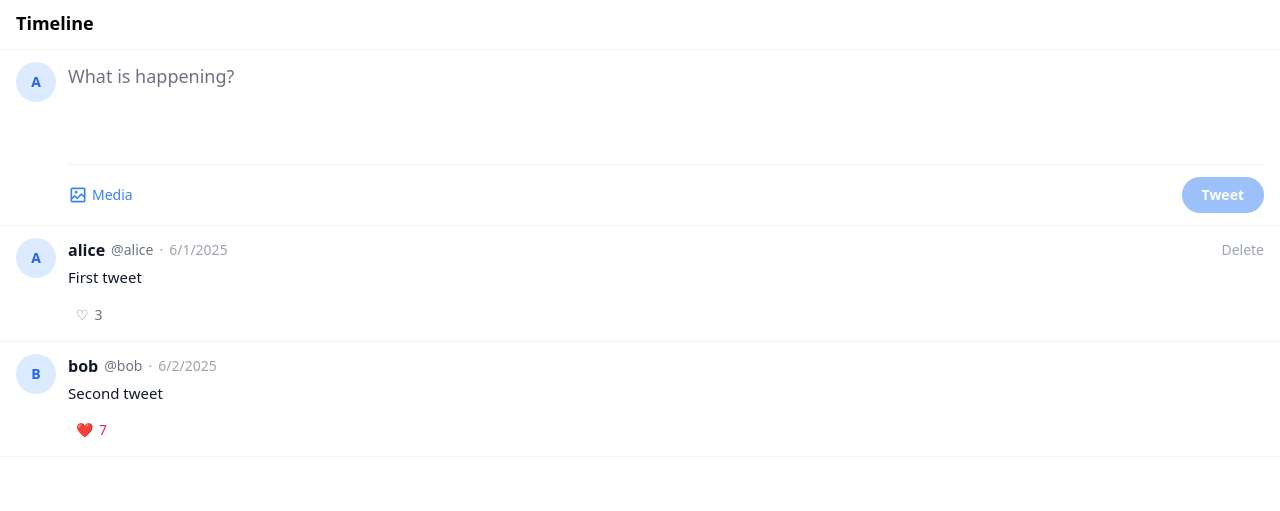
Test: TimelinePage › should display like error when like fails
Check: the text "First tweet" is shown, box x1=68 y1=267 x2=142 y2=287
Click the button "♡ 3" at (89, 314), box x1=68 y1=300 x2=111 y2=328
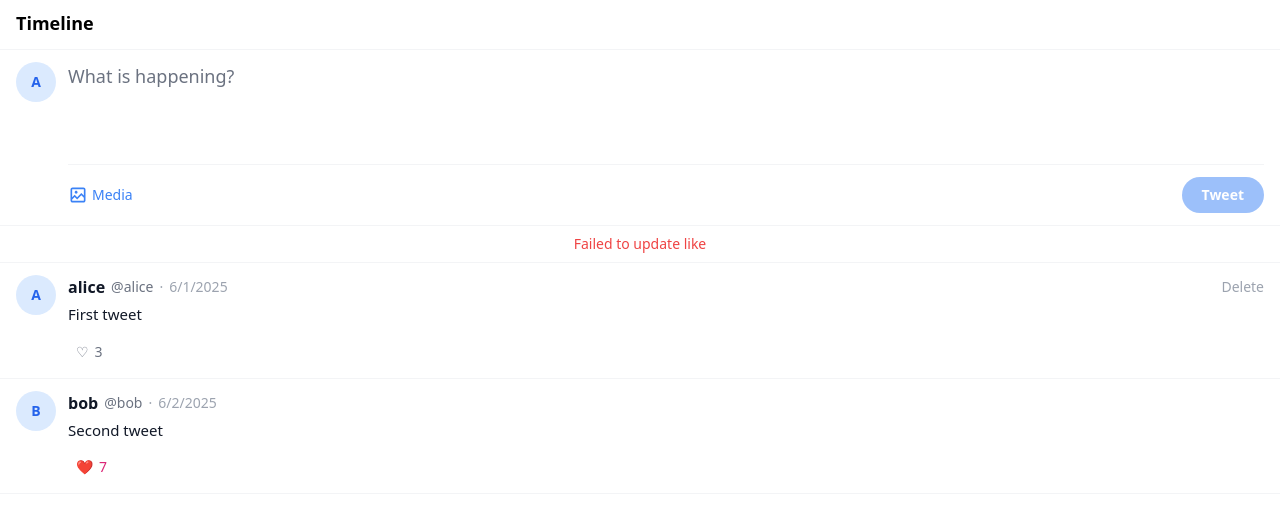
Check: the text "Failed to update like" is shown, box x1=0 y1=226 x2=1279 y2=263
